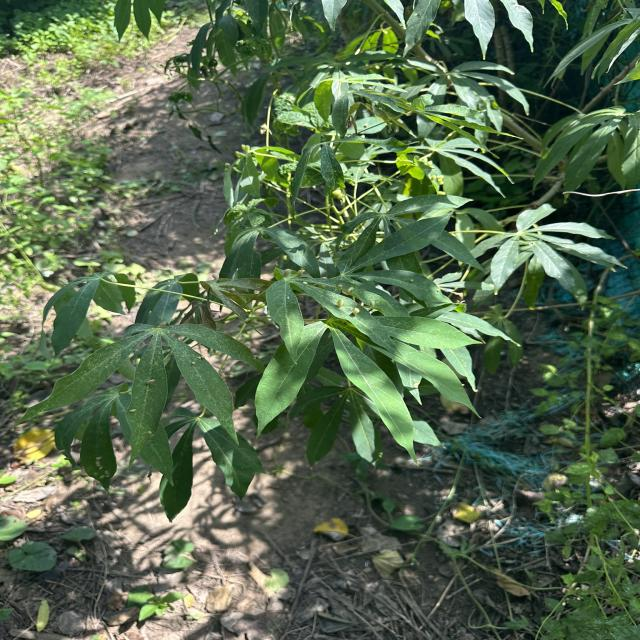Mosca: (80, 449, 117, 490), (334, 289, 373, 324), (174, 345, 217, 376), (338, 381, 365, 412), (113, 398, 140, 425), (292, 255, 316, 285), (406, 269, 430, 293), (145, 372, 166, 396)
